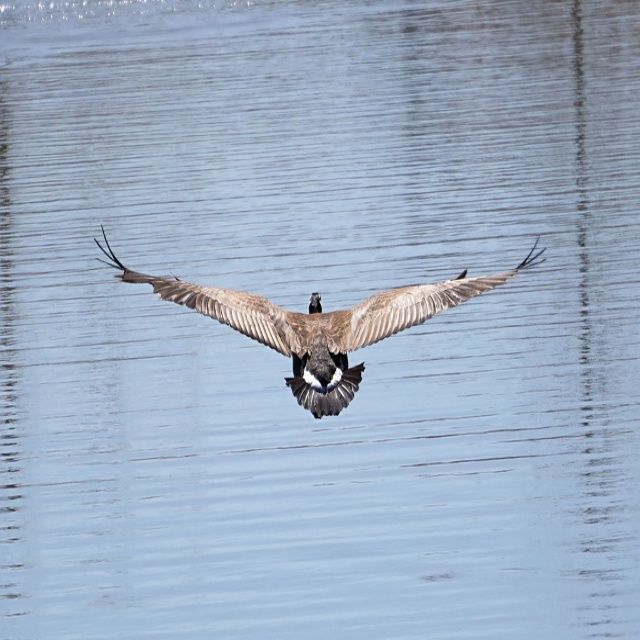Eagle: (96, 218, 548, 424)
